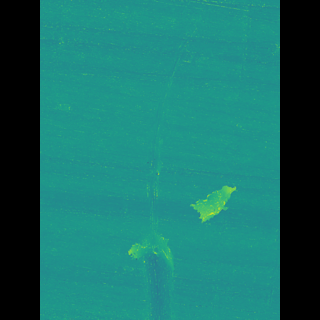Loch: (135, 135, 173, 320), (180, 179, 219, 227)
